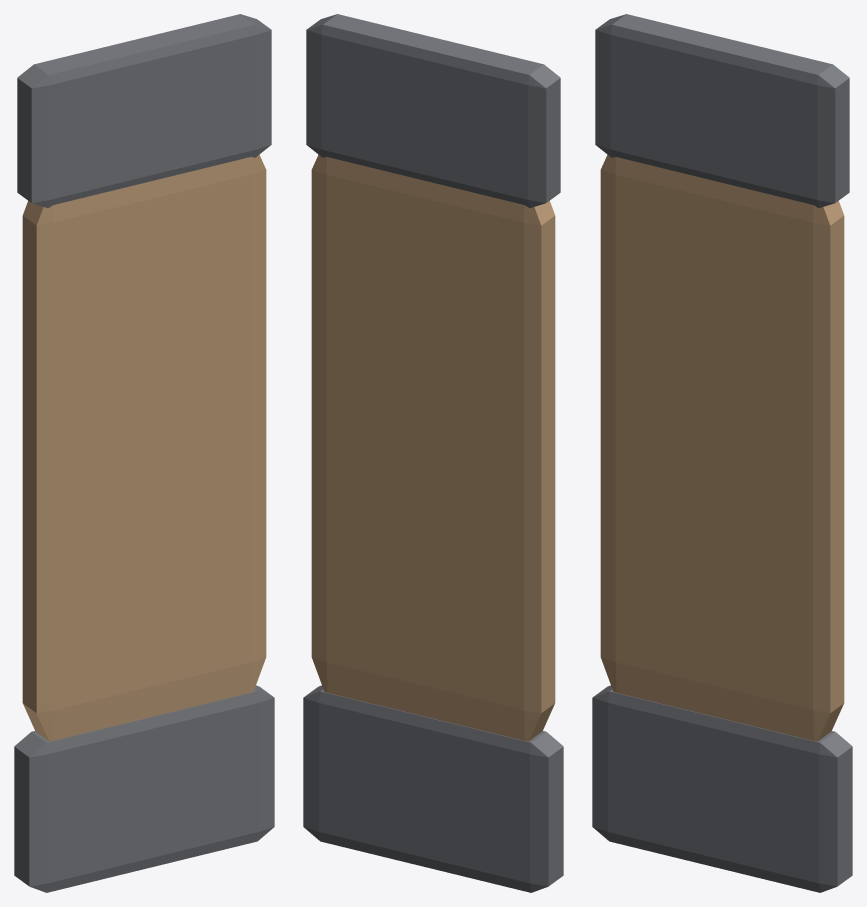
The model's file is b05_wood_distribution_power_pole.glb.
The picture shows the model from 3 angles, left to right: view 1: azimuth 30°, elevation 25°; view 2: azimuth 150°, elevation 25°; view 3: azimuth 330°, elevation 25°; orthographic projection.
Parts seen in each view (by area): view 1: b05_wood_distribution_power_pole; view 2: b05_wood_distribution_power_pole; view 3: b05_wood_distribution_power_pole.
Boxes of the visible parts, left/top/right/bottom form: b05_wood_distribution_power_pole: left=14, top=14, right=274, bottom=892; b05_wood_distribution_power_pole: left=303, top=14, right=563, bottom=892; b05_wood_distribution_power_pole: left=592, top=14, right=852, bottom=892.
Size of the model in its own units: 2.45 by 7.8 by 0.307.
